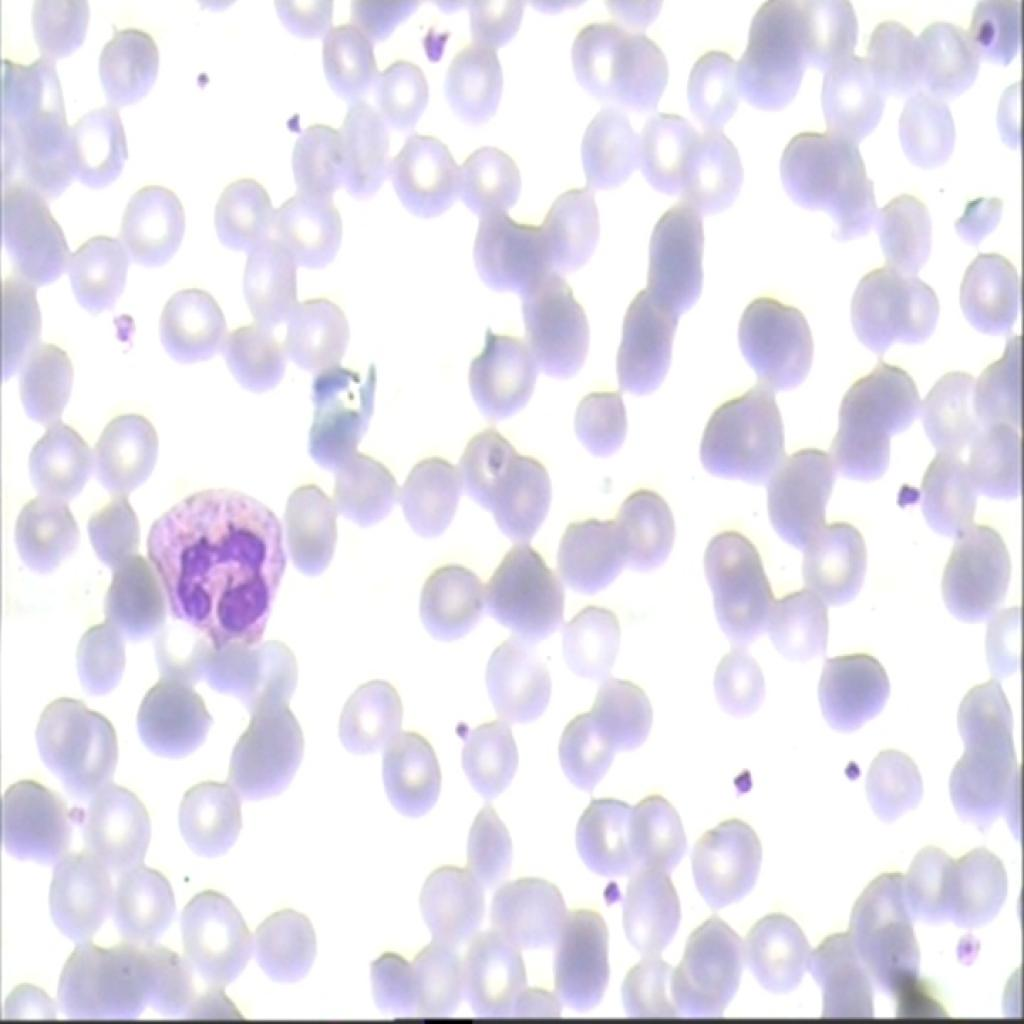Neutrofil: (150, 473, 288, 663)
Platelet: (939, 914, 981, 974), (963, 9, 1005, 59), (888, 469, 928, 521), (590, 871, 629, 916), (724, 754, 758, 804), (412, 16, 448, 57), (280, 100, 313, 140), (836, 741, 862, 786), (444, 704, 474, 741), (188, 46, 209, 98), (111, 304, 131, 341)
